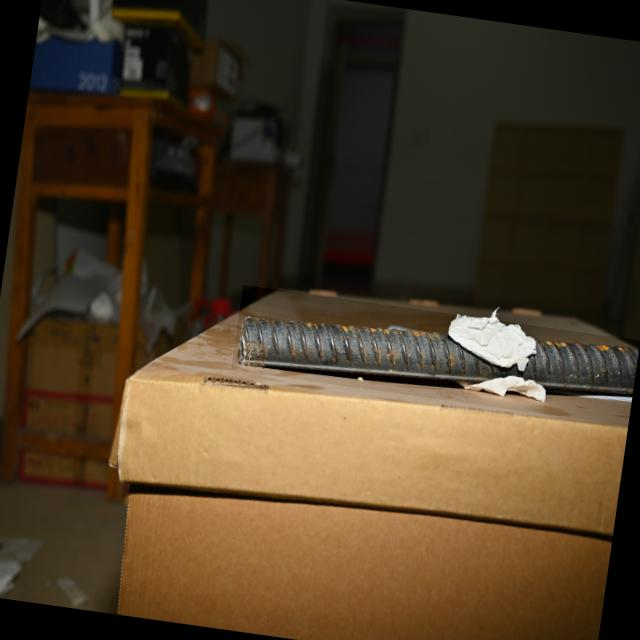ribbed bar: (231, 286, 640, 426)
